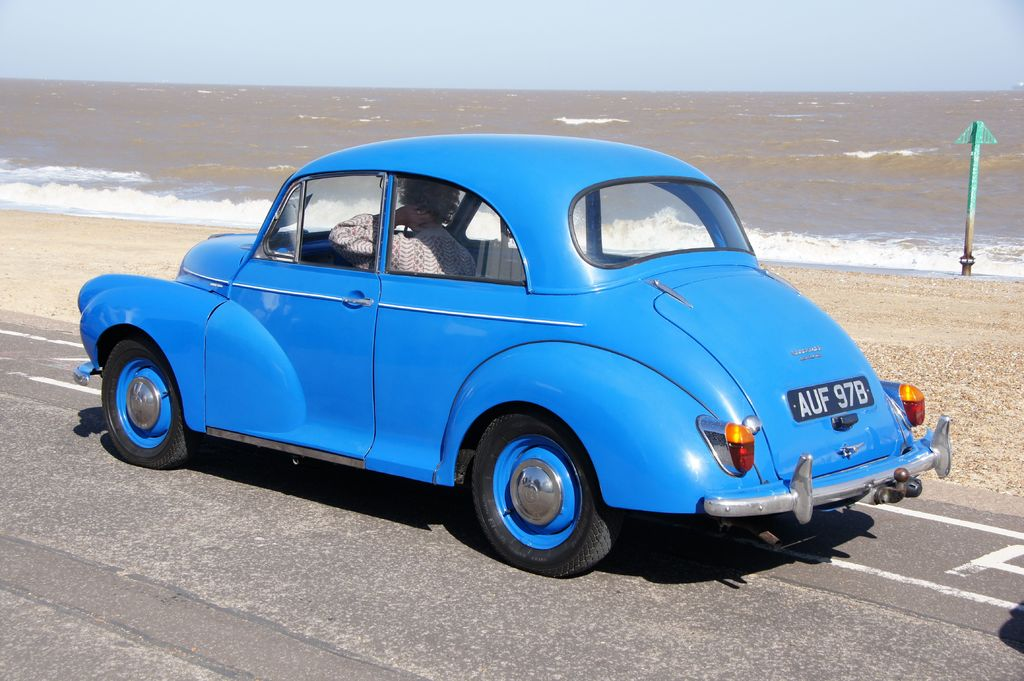Car: (77, 132, 954, 574)
